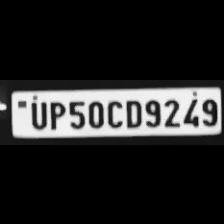0: (85, 97, 105, 127)
2: (161, 95, 181, 127)
4: (180, 94, 198, 126)
5: (64, 96, 86, 128)
9: (198, 94, 220, 125), (142, 96, 162, 127)
C: (105, 97, 123, 127)
D: (122, 96, 142, 127)
P: (46, 97, 64, 128)
U: (26, 97, 48, 128)
